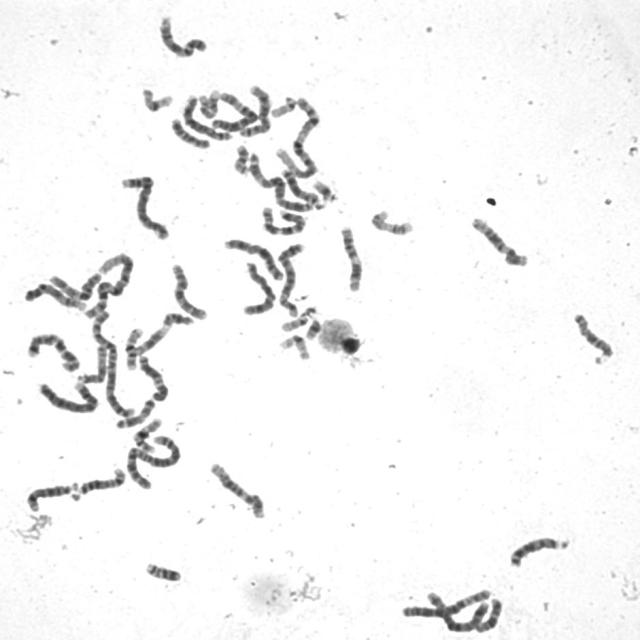A1: (274, 94, 322, 180), (80, 248, 137, 320)
A2: (89, 307, 136, 420), (121, 432, 183, 491)
A3: (109, 350, 183, 432), (244, 150, 316, 213)
B4: (117, 171, 171, 241), (34, 377, 101, 415)
B5: (421, 587, 493, 638), (273, 238, 307, 319)
C10: (168, 260, 209, 321), (45, 269, 103, 301)
C11: (122, 308, 196, 362), (336, 222, 364, 293)
C12: (205, 458, 268, 520), (467, 212, 531, 268)
C6: (396, 584, 494, 620), (209, 87, 260, 133)
C7: (22, 328, 82, 372), (258, 203, 308, 236)
C8: (180, 91, 236, 142), (237, 81, 275, 139)
C9: (154, 11, 209, 59), (21, 279, 88, 312)
D13: (506, 531, 571, 569), (282, 167, 327, 212)
D14: (22, 478, 81, 513), (70, 463, 127, 498)
D15: (569, 309, 616, 364), (74, 342, 108, 385)
E16: (129, 413, 165, 452), (120, 322, 145, 372)
E17: (367, 206, 416, 236), (194, 85, 222, 120)
E18: (166, 118, 211, 154), (471, 593, 505, 634)
F19: (276, 331, 312, 362), (137, 84, 175, 113)
F20: (142, 558, 182, 583), (229, 141, 252, 176)
G21: (310, 177, 340, 204), (301, 314, 324, 340)
G22: (278, 304, 319, 332), (267, 92, 298, 119)
X: (221, 234, 286, 282), (238, 258, 278, 316)
